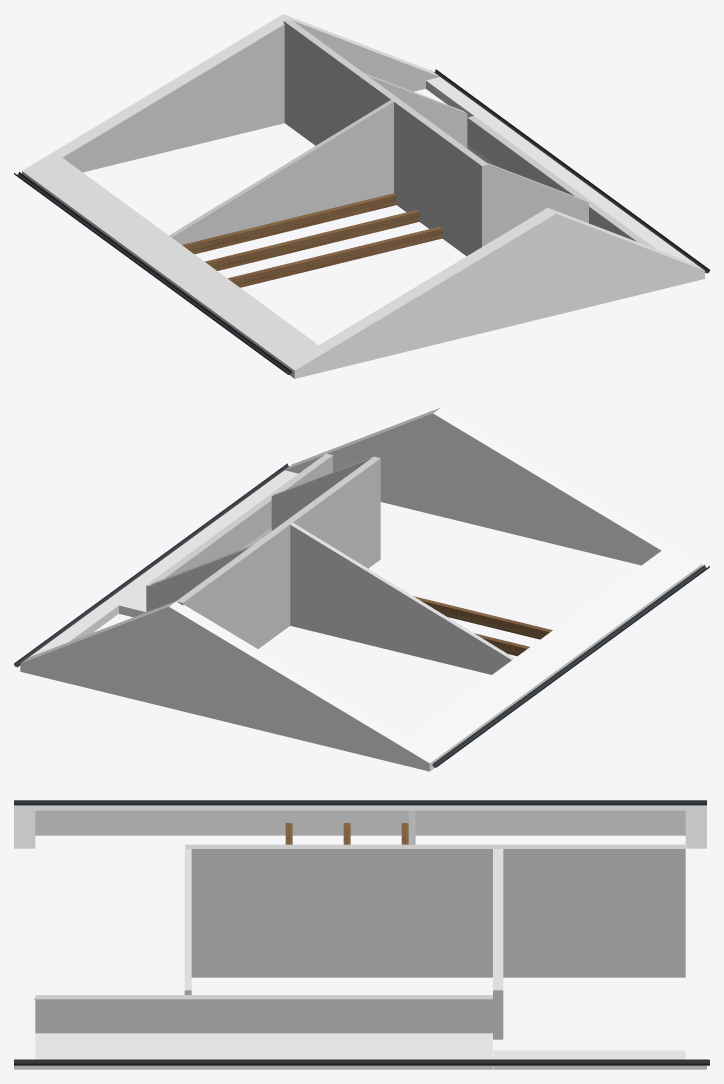
Rendered from Dach_Innen.001.glb.
The picture shows the model from 3 angles, top to bottom: view 1: azimuth 30°, elevation 25°; view 2: azimuth 150°, elevation 25°; view 3: azimuth 270°, elevation 25°; orthographic projection. The views are drawn at different scales.
Visible parts, largest first — view 1: Dach.001, Dach.005, _Curve.002, Cube.021, Cube.018, Dachbalken.003, Dach.006, Cube.017, Cube.020, Dach.007, Dachrinne.003, Dachrinne.002 (+1 smaller); view 2: Dach.005, Dach.001, Cube.021, _Curve.002, Cube.018, Cube.017, Cube.020, Dachbalken.003, Dachrinne.003, Dach.006, Dach.007, Dachrinne.002 (+1 smaller); view 3: _Curve.002, Cube.018, Cube.017, Cube.020, Dach.001, Dach.005, Dachrinne.002, Dachrinne.003, Cube.019, Dach.007, Dach.006, Dachbalken.003.
Part boxes in pixels (x1,y1,x2,y2): Dach.001: [286, 207, 704, 378]; Dach.005: [22, 14, 439, 179]; _Curve.002: [283, 19, 488, 256]; Cube.021: [169, 100, 393, 244]; Cube.018: [30, 157, 318, 366]; Dachbalken.003: [182, 193, 442, 287]; Dach.006: [487, 163, 588, 242]; Cube.017: [467, 116, 654, 248]; Cube.020: [467, 132, 694, 263]; Dach.007: [364, 73, 467, 148]; Dachrinne.003: [14, 172, 291, 374]; Dachrinne.002: [431, 69, 709, 273]; Dach.005: [20, 601, 437, 771]; Dach.001: [285, 407, 702, 572]; Cube.021: [290, 523, 514, 674]; _Curve.002: [176, 456, 380, 648]; Cube.018: [405, 551, 693, 759]; Cube.017: [146, 453, 332, 612]; Cube.020: [105, 470, 297, 617]; Dachbalken.003: [414, 596, 552, 656]; Dachrinne.003: [432, 565, 709, 767]; Dach.006: [271, 456, 373, 530]; Dach.007: [149, 545, 251, 611]; Dachrinne.002: [14, 463, 289, 667]; _Curve.002: [185, 844, 688, 977]; Cube.018: [35, 805, 688, 835]; Cube.017: [34, 995, 492, 1033]; Cube.020: [35, 1033, 492, 1069]; Dach.001: [14, 805, 35, 1069]; Dach.005: [685, 805, 706, 1069]; Dachrinne.002: [14, 1059, 709, 1065]; Dachrinne.003: [14, 800, 706, 805]; Cube.019: [493, 1050, 688, 1069]; Dach.007: [493, 849, 503, 1039]; Dach.006: [184, 849, 191, 994]; Dachbalken.003: [285, 823, 408, 844].
Bounding box in the file's own units: 10.69 × 2.45 × 12.
Materials: 4 (1 with a texture image).
